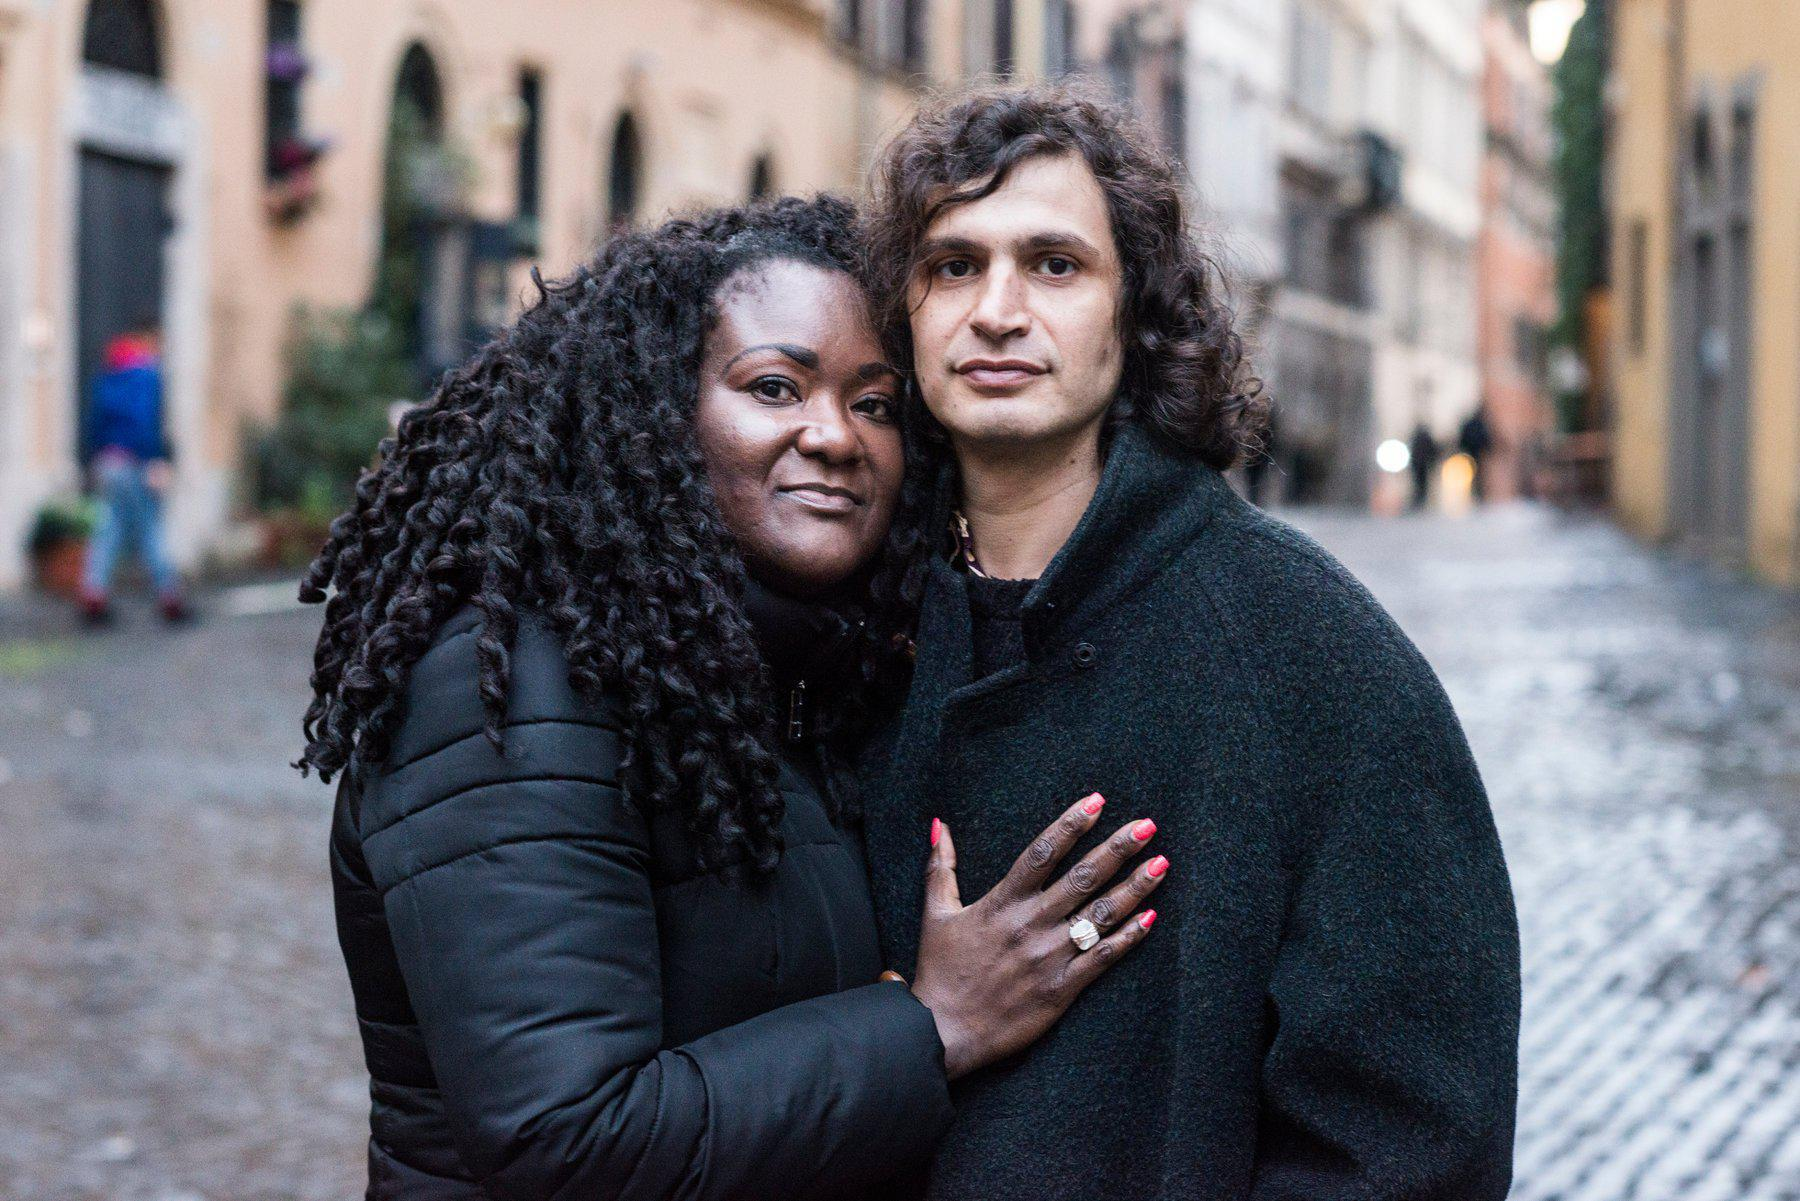Sober: (716, 253, 895, 556), (911, 173, 1127, 422)
